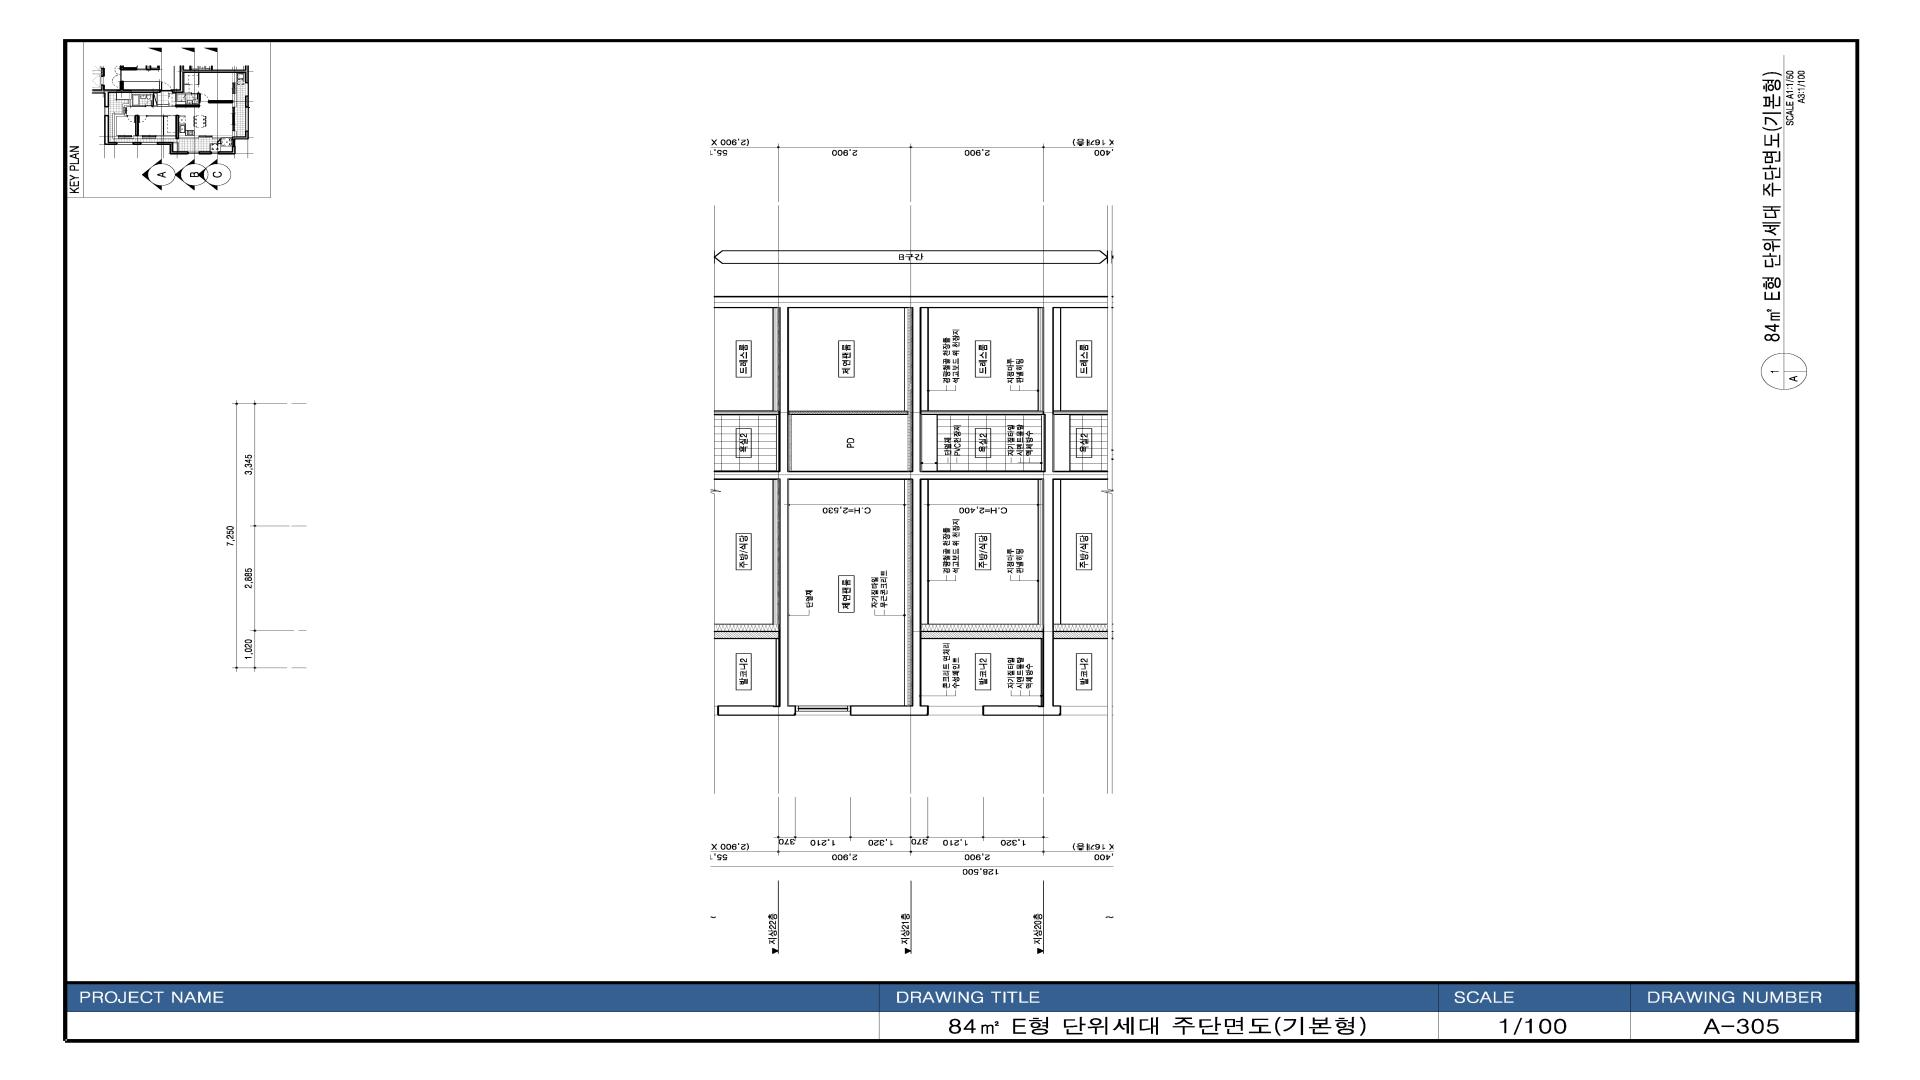wall: (715, 471, 1054, 716), (713, 295, 1054, 471), (922, 630, 1043, 640), (922, 410, 1044, 415), (787, 410, 907, 415), (787, 479, 789, 705)
window: (928, 705, 982, 716), (796, 705, 851, 715)
